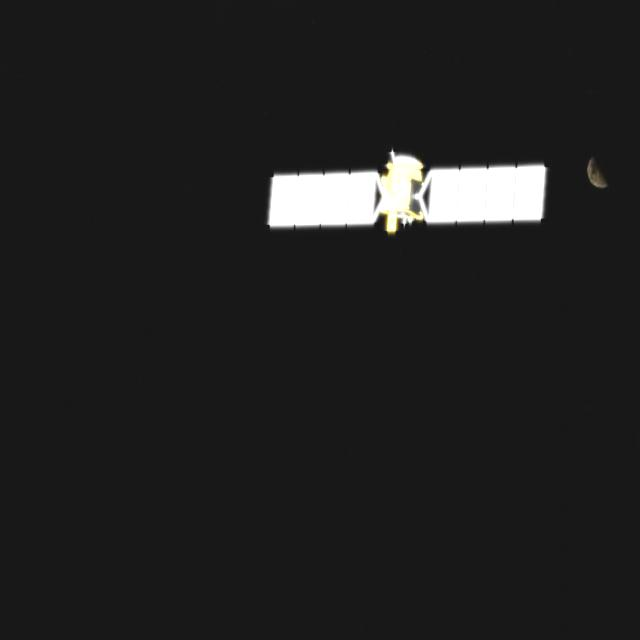satellite: (257, 150, 573, 237)
